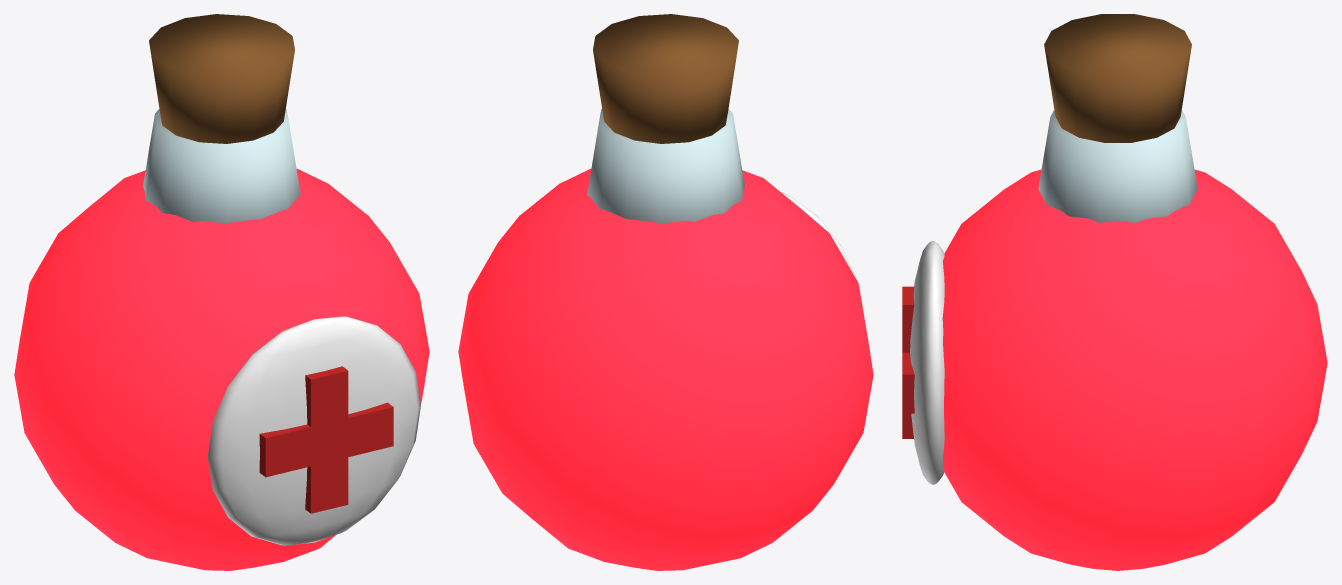
The model's file is potion_health.glb.
3 renders of one model, left to right at view 1: azimuth 30°, elevation 25°; view 2: azimuth 150°, elevation 25°; view 3: azimuth 270°, elevation 25°, orthographic.
Parts seen in each view (by area): view 1: body, label, cork, neck, cross_b, cross_a; view 2: body, cork, neck; view 3: body, cork, neck, label, cross_b, cross_a.
Boxes of the visible parts, x1,y1,x2,y2 form: body: (14, 168, 429, 570); label: (207, 316, 420, 545); cork: (149, 14, 294, 143); neck: (143, 109, 300, 223); cross_b: (305, 366, 348, 513); cross_a: (259, 402, 393, 477); body: (458, 168, 873, 570); cork: (593, 14, 738, 143); neck: (587, 109, 744, 223); body: (942, 169, 1327, 570); cork: (1044, 14, 1191, 142); neck: (1038, 110, 1197, 222); label: (910, 240, 944, 485); cross_b: (902, 286, 914, 438); cross_a: (902, 352, 914, 413).
Size of the model in its own units: 0.34 by 0.455 by 0.345.
